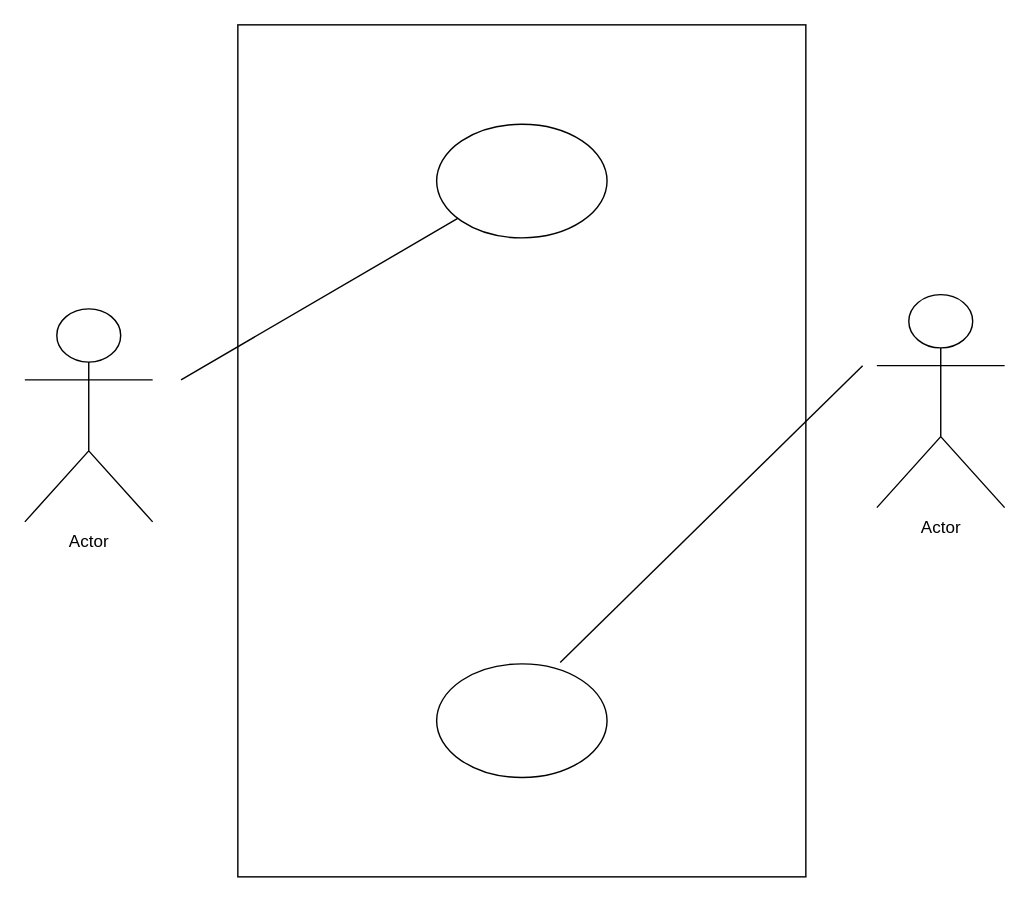
Image size: 1030x902. Some labels were removed from this diagram. The shapes that lost their labels are listed below. From the top down, each one's box as (x1, y1, x2, y2) in pixels, then its label:
(435, 123, 607, 238): random angka
(435, 662, 607, 777): tebak angka
